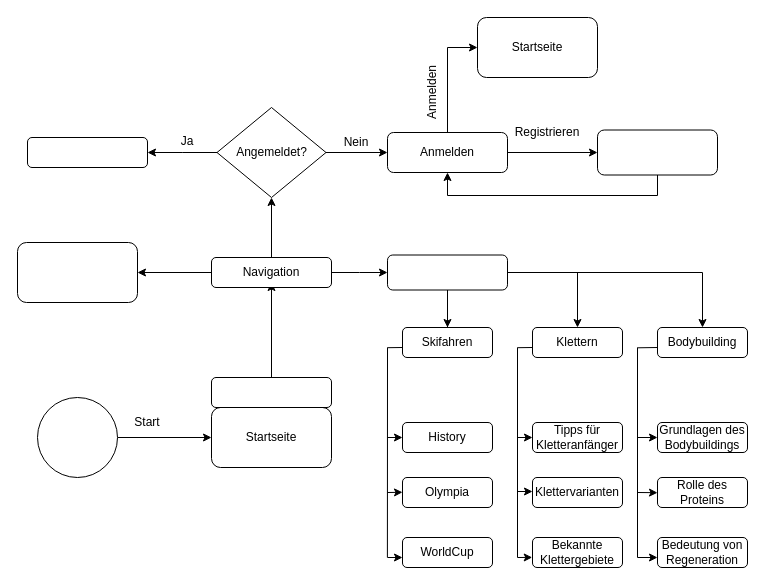
The diagram is 765 pixels wide and 585 high, and some of its shapes have lost their labels. Here are the shapes that lost their labels. From the top down, the box of each, then its label:
(26, 136, 148, 168): Abmelden
(596, 129, 718, 175): Registrierung
(16, 242, 138, 302): Quiz
(386, 254, 508, 290): News
(210, 376, 332, 408): Header
